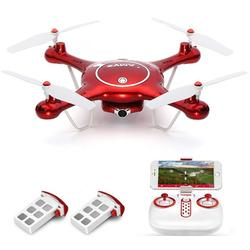drone: (1, 17, 245, 133)
